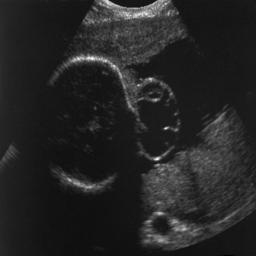abnormal: (38, 57, 185, 194)
